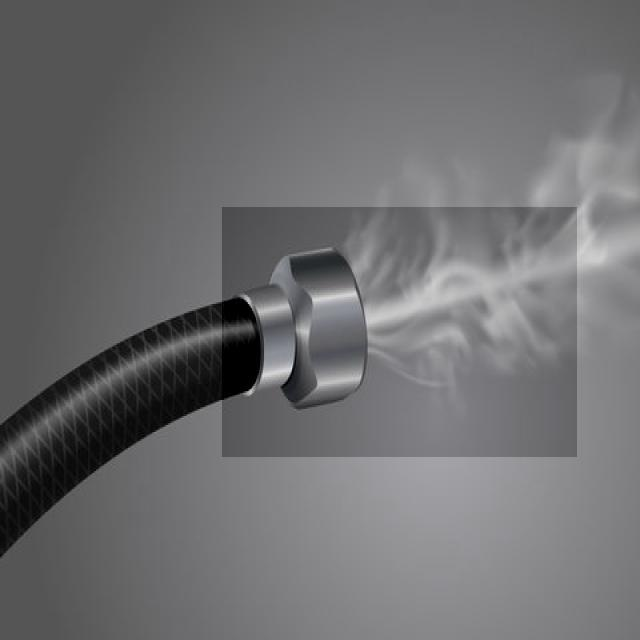corrosion: (178, 192, 560, 475)
